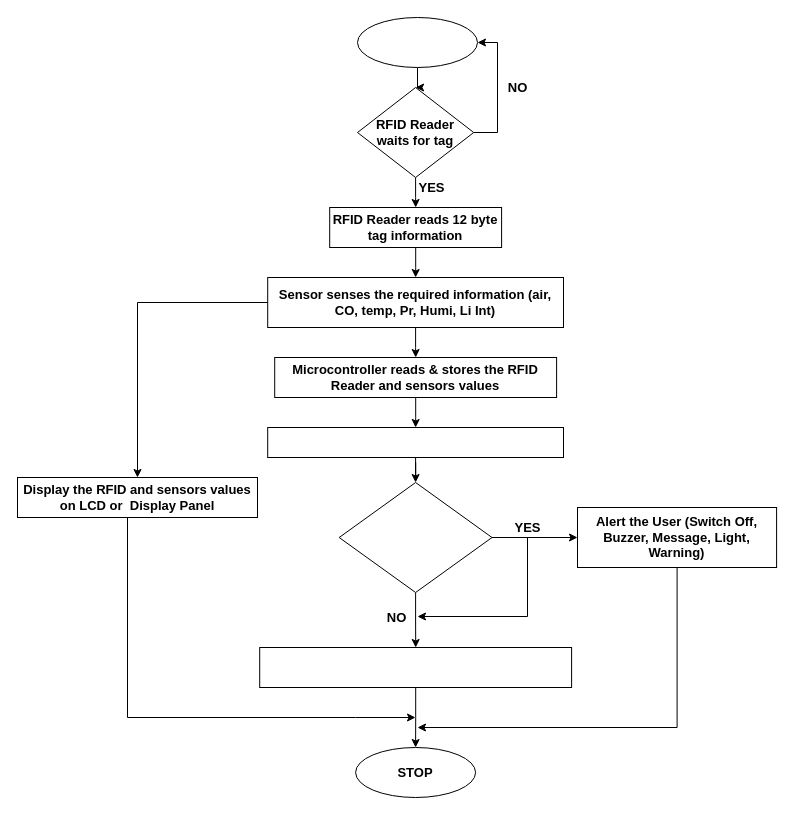
The diagram is 795 pixels wide and 815 high, and some of its shapes have lost their labels. Here are the shapes that lost their labels. From the top down, the box of each, then its label:
(356, 16, 478, 68): START
(267, 426, 564, 458): Server monitors and stores the values in DB
(338, 482, 492, 592): If sensors value exceeds the reference value
(259, 646, 572, 688): Perform Analysis in Application Layer (Insight and Graph generation)
